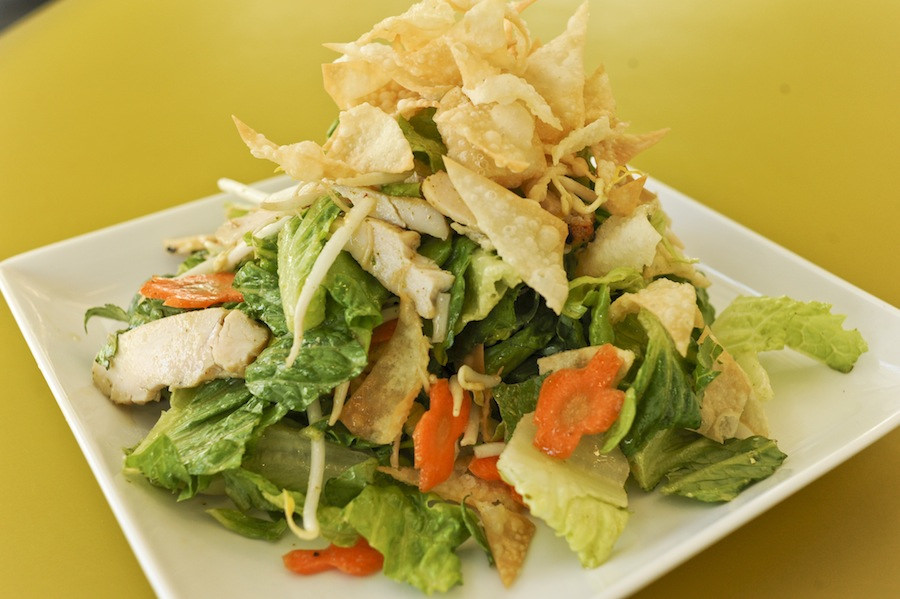chopped lettuce: (466, 261, 823, 477), (136, 221, 369, 477), (180, 404, 465, 581)
